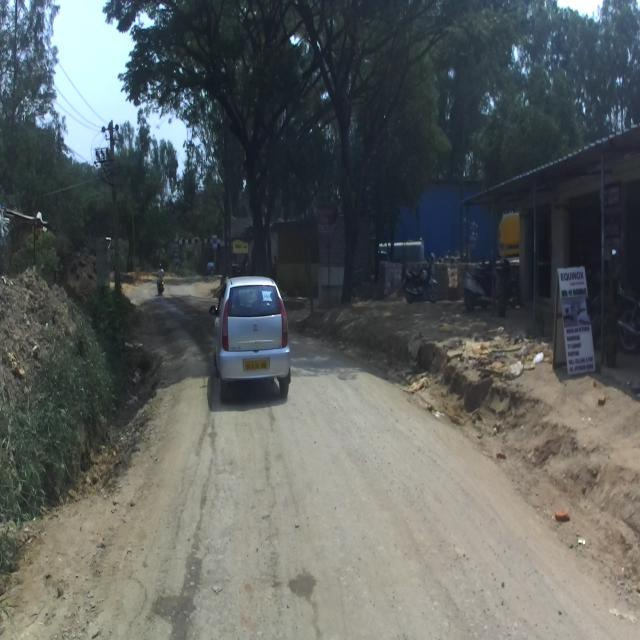car ahead at: (212, 273, 292, 397)
